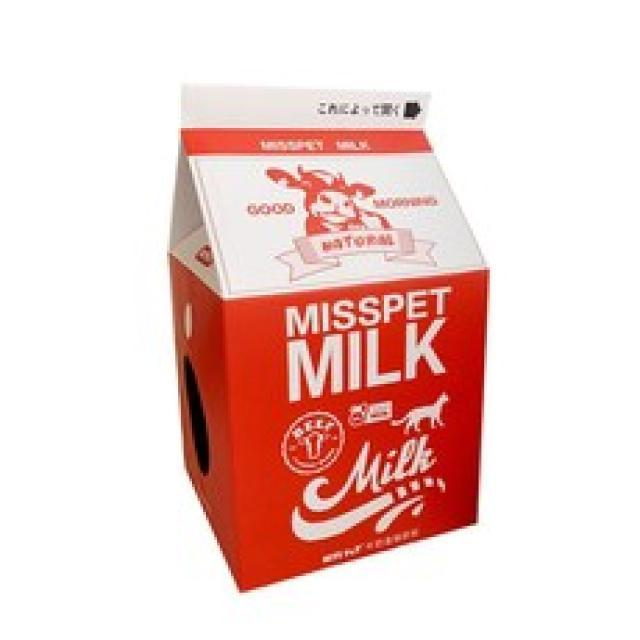Carton: (152, 73, 500, 608)
